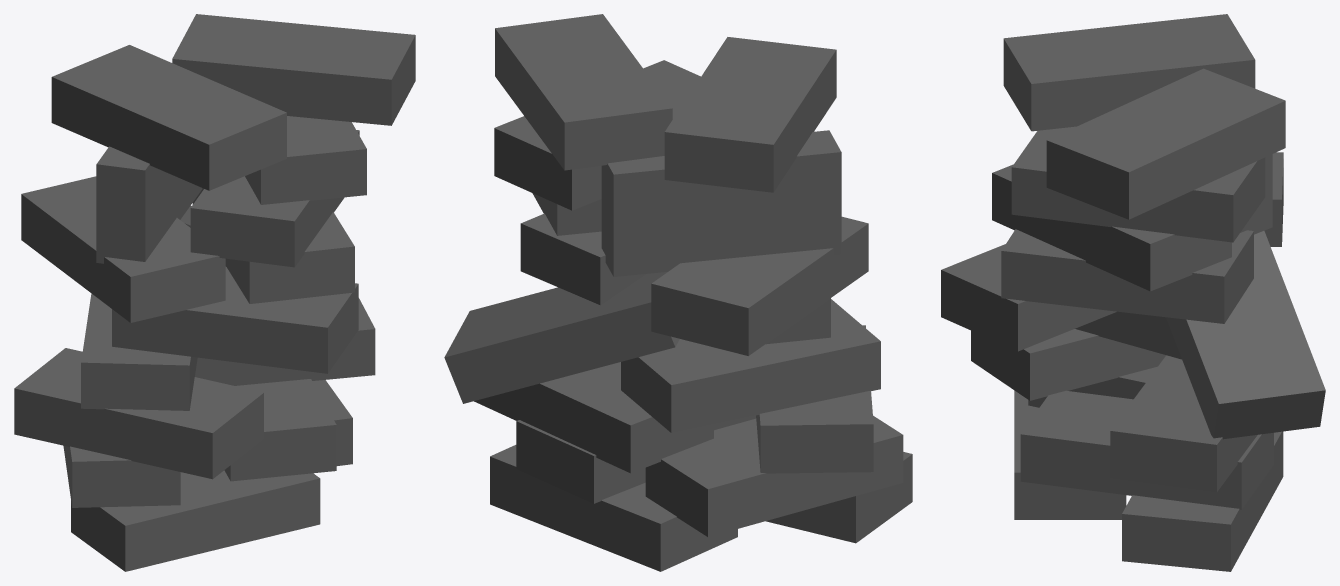
The model's file is ColoredLooseBricks4fbx.fbx.
3 views of the same model, side by side, from view 1: azimuth 30°, elevation 25°; view 2: azimuth 150°, elevation 25°; view 3: azimuth 270°, elevation 25° (orthographic). The views are drawn at different scales.
Parts seen in each view (by area): view 1: Cube.015; view 2: Cube.015; view 3: Cube.015.
Part boxes in pixels (<box>): Cube.015: <box>14,14,415,571</box>; Cube.015: <box>444,14,912,571</box>; Cube.015: <box>941,14,1325,571</box>.
Size of the model in its own units: 101 by 104 by 85.92.
